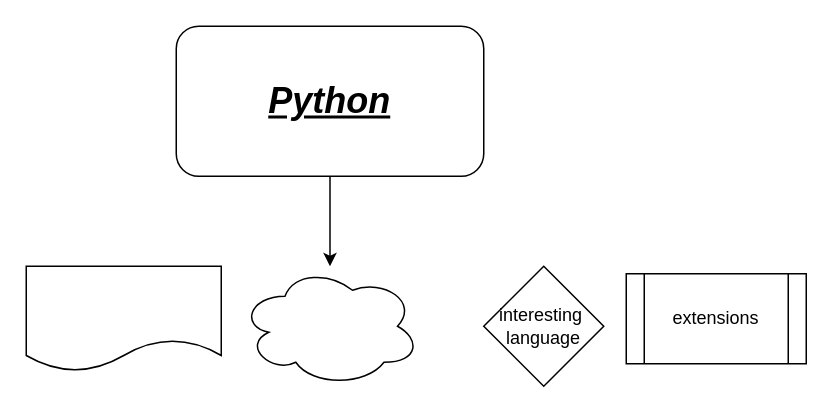
The diagram is 833 pixels wide and 413 high, and some of its shapes have lost their labels. The centre of each missing label's shape, as x and y in pixels:
"programming language" goes at point (329, 325).
"text editing" goes at point (123, 318).
